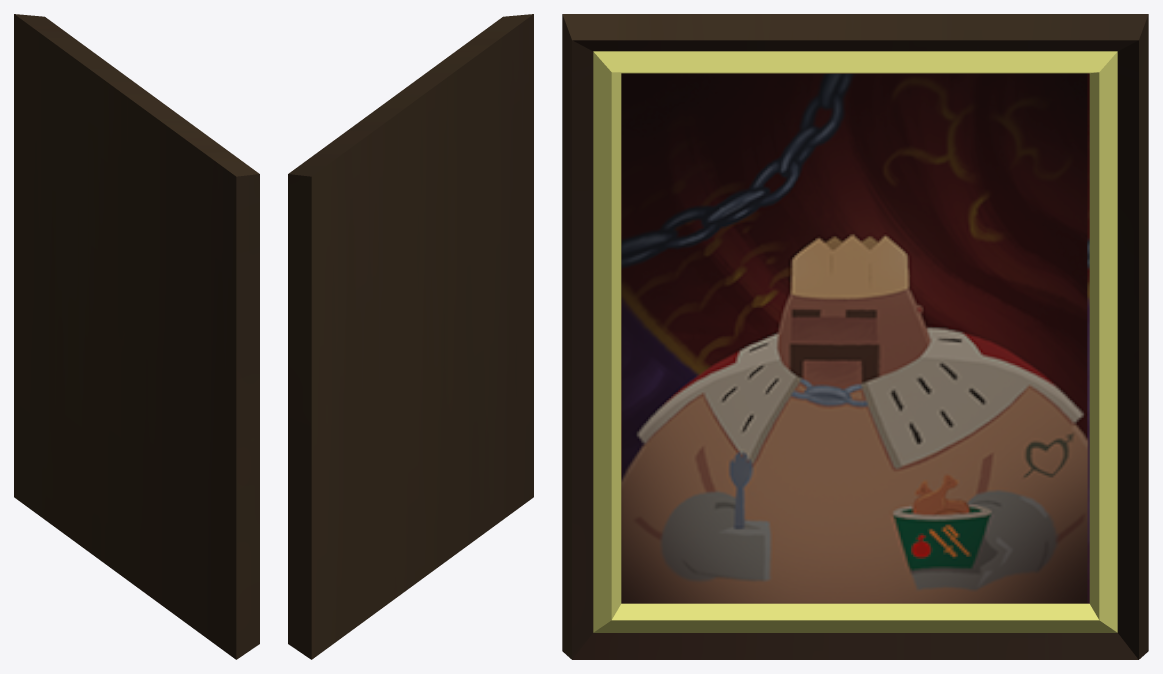
The model's file is Paint5_TR.fbx.
3 renders of one model, left to right at view 1: azimuth 30°, elevation 25°; view 2: azimuth 150°, elevation 25°; view 3: azimuth 270°, elevation 25°, orthographic. The views are drawn at different scales.
Visible parts, largest first — view 1: Paint5_TR; view 2: Paint5_TR; view 3: Paint5_TR.
Boxes of the visible parts, box(x1,y1,x2,y2) form: Paint5_TR: box(14, 14, 259, 659); Paint5_TR: box(288, 14, 533, 659); Paint5_TR: box(562, 14, 1148, 659).
Bounding box in the file's own units: 0.2376 × 4.04 × 3.37.
